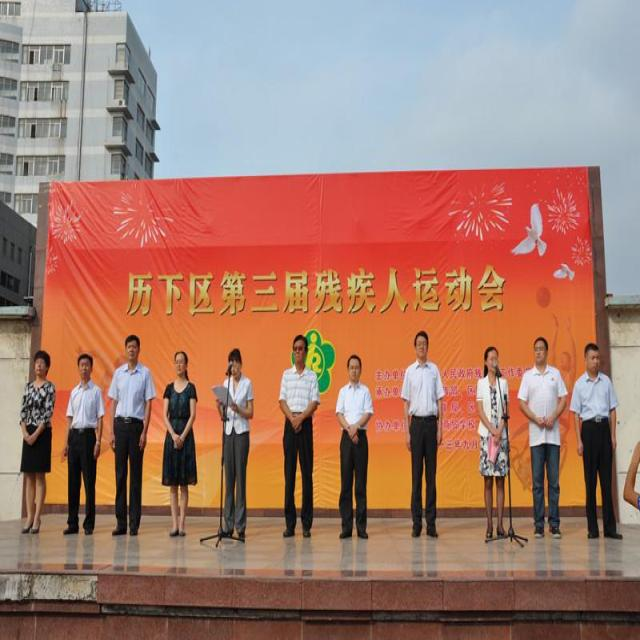non-fight: (570, 343, 625, 543), (517, 333, 569, 538), (108, 334, 158, 536), (400, 330, 446, 539), (279, 334, 320, 542), (473, 344, 513, 540), (334, 350, 374, 540), (216, 348, 254, 540), (64, 352, 103, 538), (17, 348, 54, 536), (161, 347, 197, 538)
